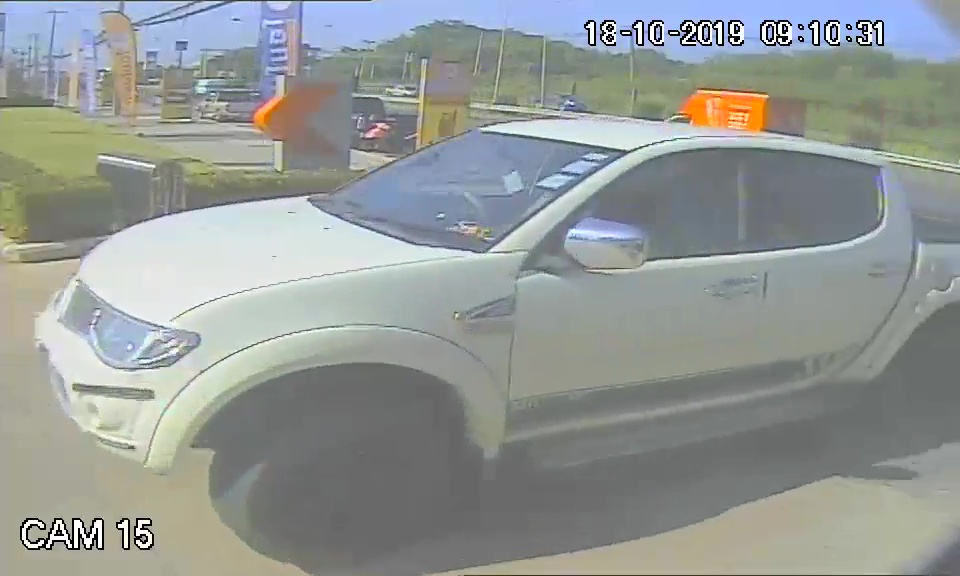pickup: (31, 112, 913, 517)
